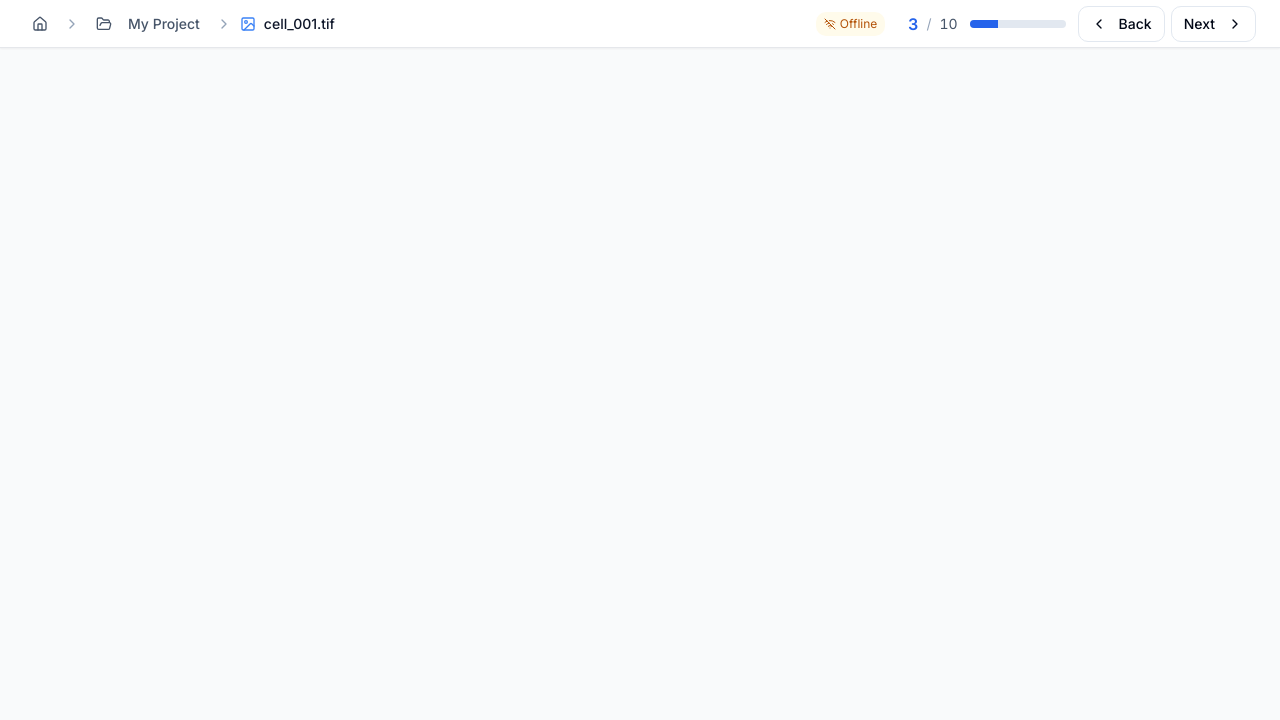
Scenario: EditorHeader › unsaved changes prompt › Cancel closes the prompt and stays in the editor
Click the button "My Project". click: point(148, 24)
box: [88, 6, 208, 42]
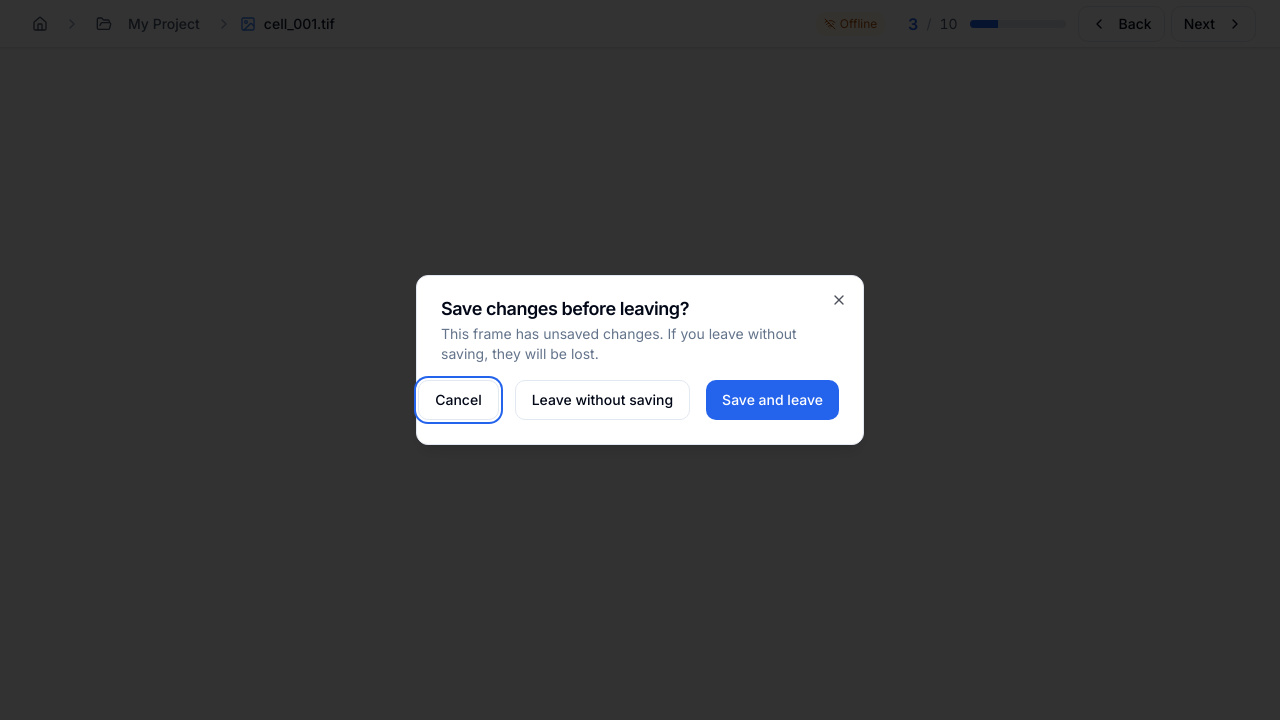
Click the button "Cancel". click: point(458, 400)
box: [418, 380, 499, 420]
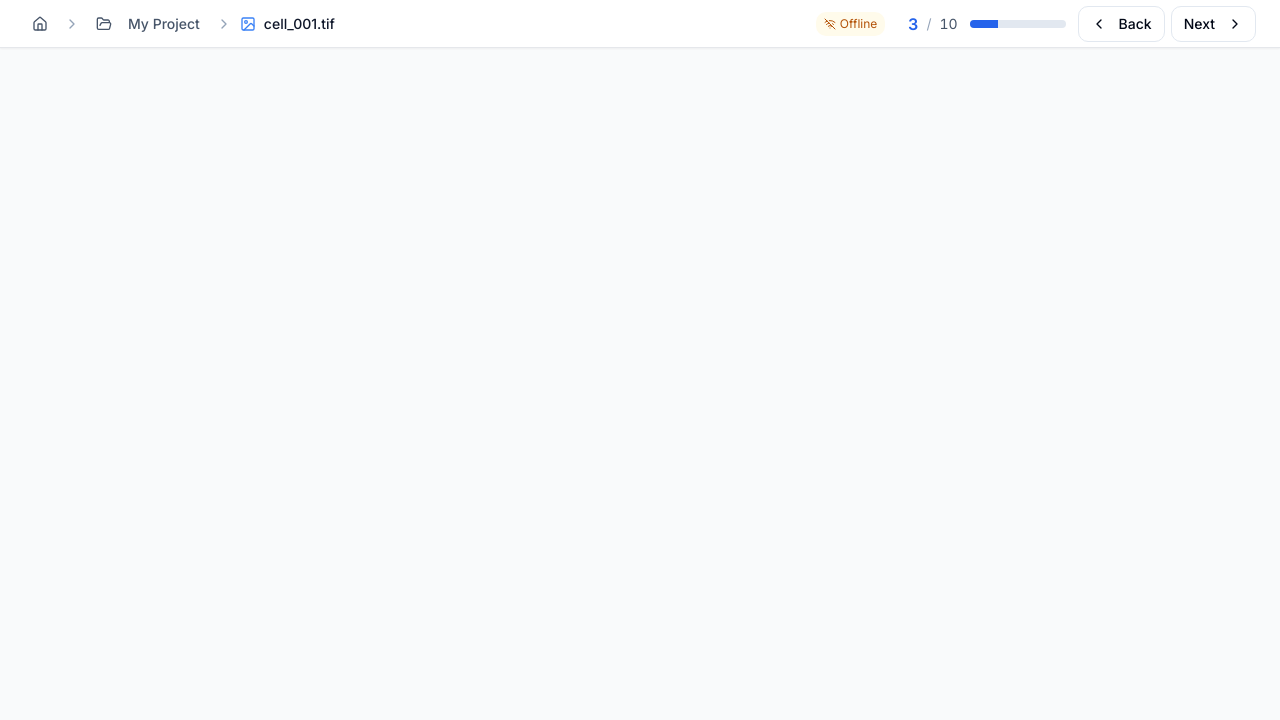
Check: the text "cell_001.tif" is shown, box [264, 14, 335, 34]
Check: the button with test id "unsaved-changes-save" is gone
